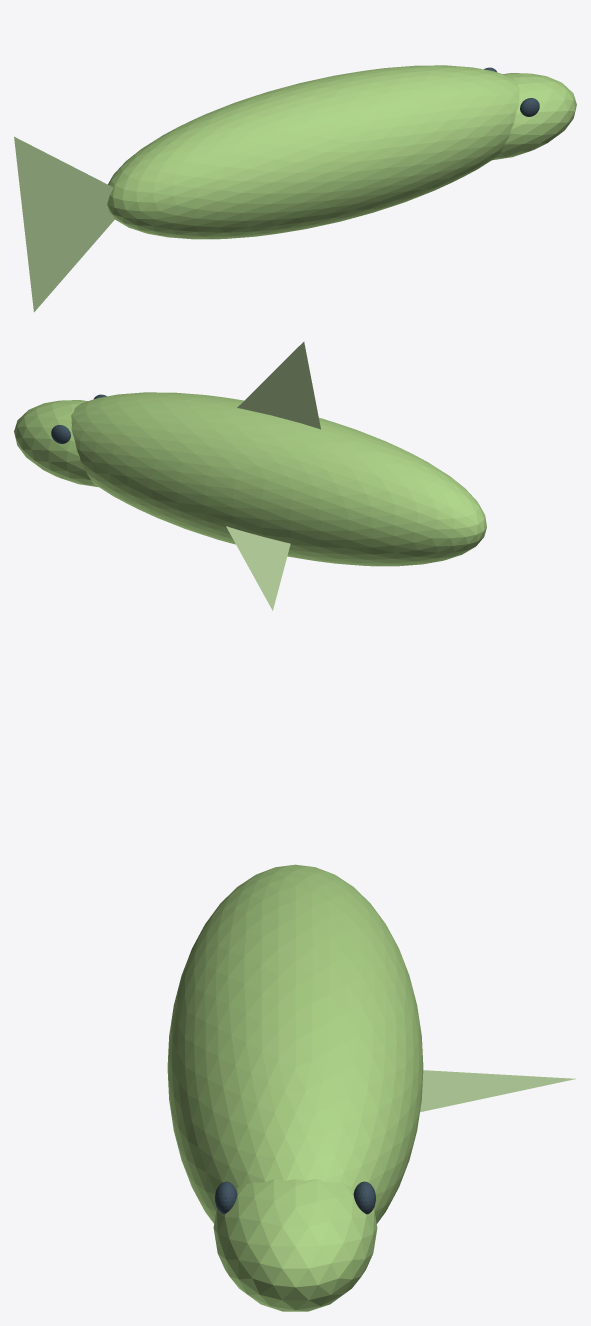
The picture shows the model from 3 angles, top to bottom: view 1: azimuth 30°, elevation 25°; view 2: azimuth 150°, elevation 25°; view 3: azimuth 270°, elevation 25°; orthographic projection. The views are drawn at different scales.
Visible parts, largest first — view 1: whale_00, whale_02, whale_01; view 2: whale_00, whale_01, whale_03, whale_04; view 3: whale_00, whale_01, whale_04.
Part boxes in pixels (x1,y1,x2,y2): whale_00: [107, 65, 519, 239]; whale_02: [14, 136, 114, 312]; whale_01: [492, 73, 576, 160]; whale_00: [71, 392, 486, 566]; whale_01: [14, 400, 98, 487]; whale_03: [237, 341, 320, 429]; whale_04: [226, 526, 290, 610]; whale_00: [167, 864, 423, 1223]; whale_01: [213, 1179, 377, 1311]; whale_04: [420, 1070, 575, 1112].
Bounding box in the file's own units: 4.2 × 1.7 × 2.2.
